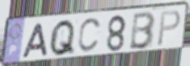8: (106, 14, 127, 53)
A: (21, 22, 49, 60)
B: (128, 10, 157, 51)
C: (77, 16, 103, 54)
P: (156, 9, 182, 48)
Q: (48, 18, 77, 58)
